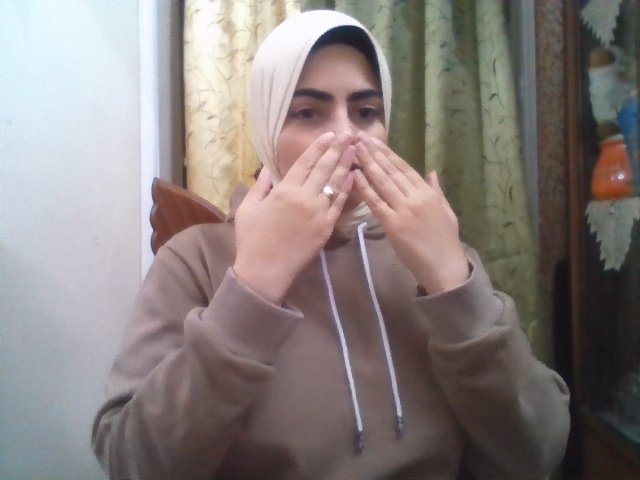thanks: (235, 130, 463, 274)
